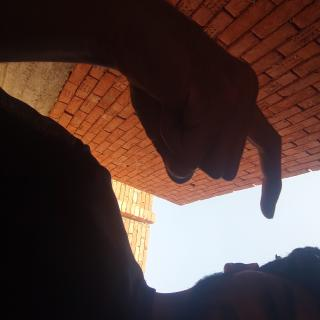RAA: (1, 41, 162, 264)
